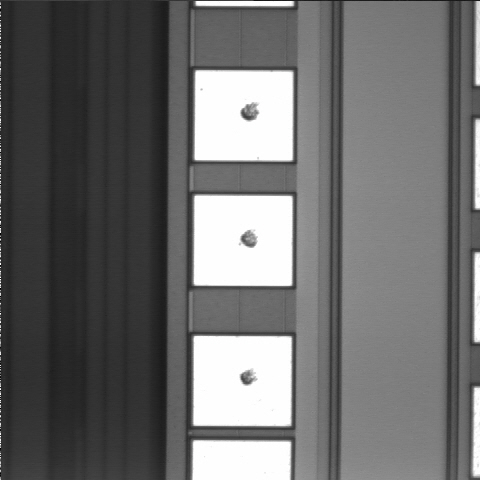pad: (195, 70, 293, 161), (194, 195, 292, 286), (193, 336, 292, 426)
